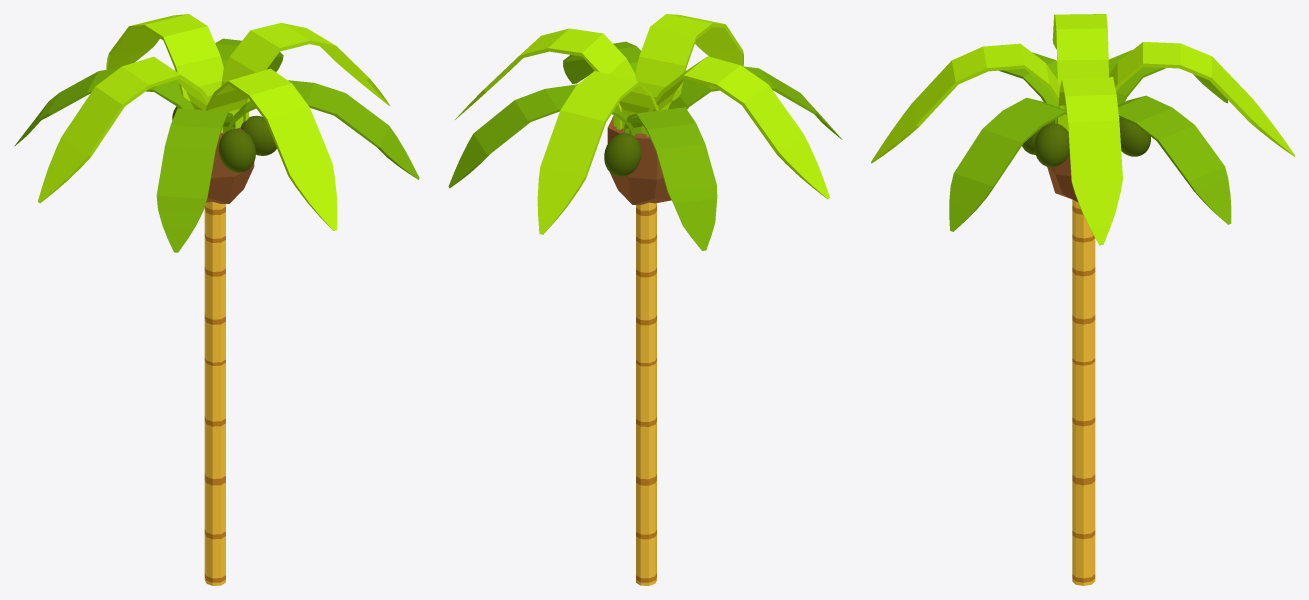
Rendered from palmera2.fbx.
3 views of the same model, side by side, from view 1: azimuth 30°, elevation 25°; view 2: azimuth 150°, elevation 25°; view 3: azimuth 270°, elevation 25° (orthographic).
Visible parts, largest first — view 1: Cube.001; view 2: Cube.001; view 3: Cube.001.
Part boxes in pixels (x1=…): Cube.001: x1=14, y1=14, x2=419, y2=585; Cube.001: x1=448, y1=14, x2=842, y2=585; Cube.001: x1=871, y1=14, x2=1294, y2=585.
Bounding box in the file's own units: 1428 × 1988 × 1444.
